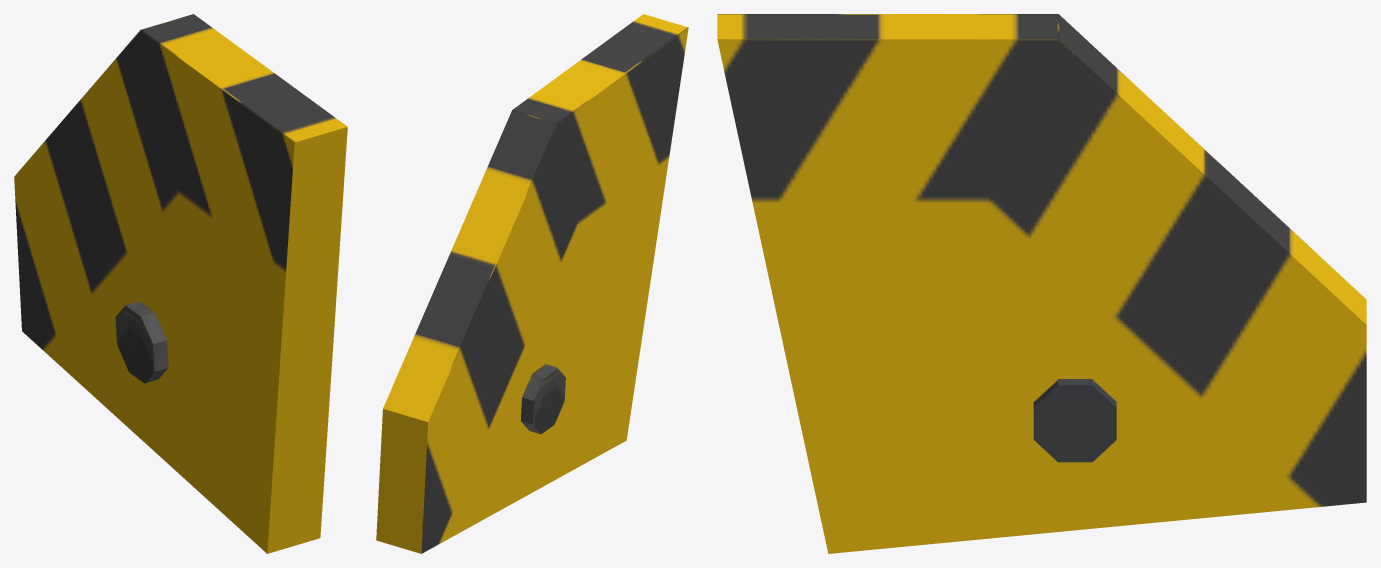
The model's file is SM_ShieldDebris_Shard_C.fbx.
3 views of the same model, side by side, from view 1: azimuth 30°, elevation 25°; view 2: azimuth 150°, elevation 25°; view 3: azimuth 270°, elevation 25° (orthographic). The views are drawn at different scales.
Parts seen in each view (by area): view 1: SM_ShieldDebris_Shard_C; view 2: SM_ShieldDebris_Shard_C; view 3: SM_ShieldDebris_Shard_C.
Boxes of the visible parts, left/top/right/bottom form: SM_ShieldDebris_Shard_C: left=14, top=14, right=347, bottom=553; SM_ShieldDebris_Shard_C: left=376, top=14, right=688, bottom=553; SM_ShieldDebris_Shard_C: left=717, top=14, right=1366, bottom=553.
Size of the model in its own units: 4.67 by 24.12 by 28.08.
1 material, 1 textured.
